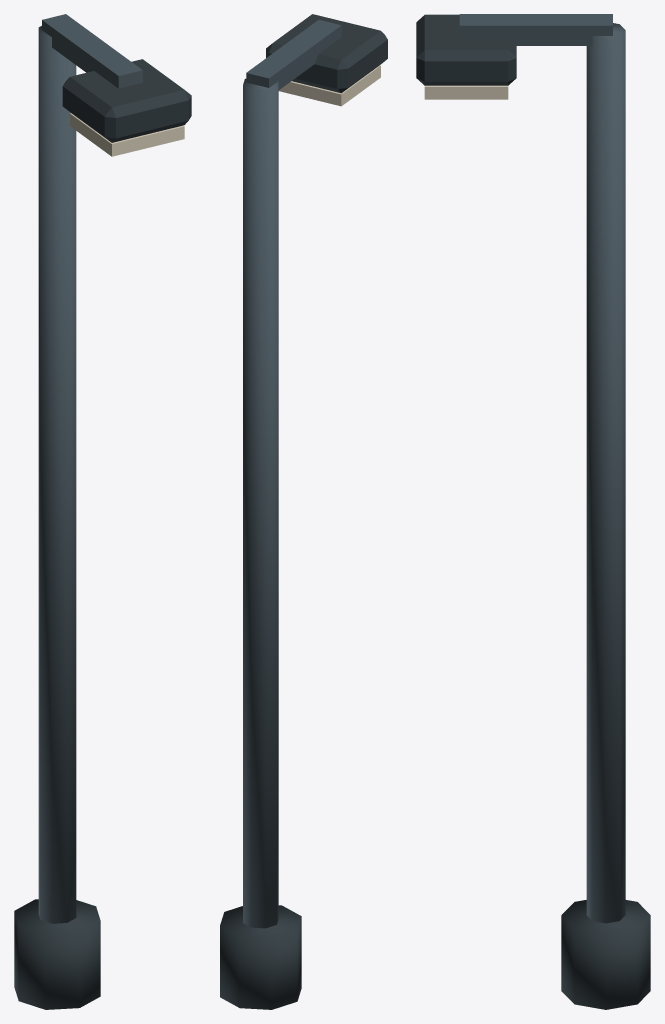
File: lamp.glb
3 renders of one model, left to right at view 1: azimuth 30°, elevation 25°; view 2: azimuth 150°, elevation 25°; view 3: azimuth 270°, elevation 25°, orthographic. The views are drawn at different scales.
Visible parts, largest first — view 1: lamp; view 2: lamp; view 3: lamp.
Boxes of the visible parts, x1,y1,x2,y2 form: lamp: [14, 14, 191, 1009]; lamp: [220, 14, 387, 1009]; lamp: [416, 14, 650, 1009].
Bounding box in the file's own units: 0.36 × 3.84 × 0.84.
